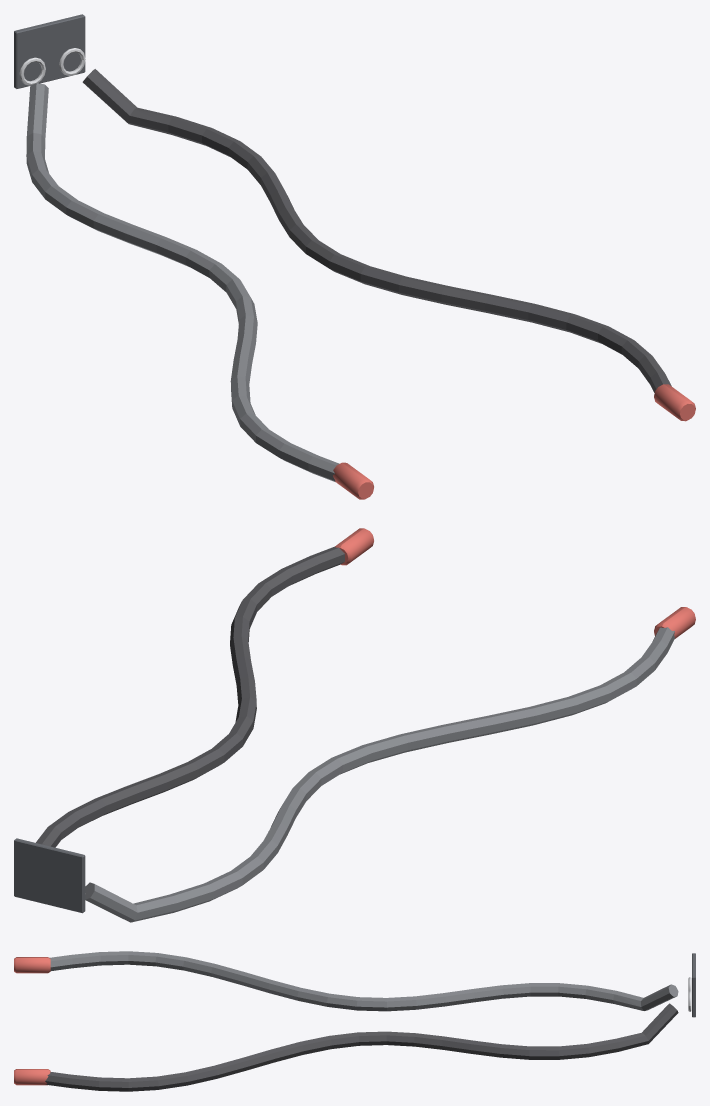
Rendered from battle_ropes.glb.
The picture shows the model from 3 angles, top to bottom: view 1: azimuth 30°, elevation 25°; view 2: azimuth 150°, elevation 25°; view 3: azimuth 270°, elevation 25°; orthographic projection. The views are drawn at different scales.
Visible parts, largest first — view 1: battle-ropes; view 2: battle-ropes; view 3: battle-ropes.
Part boxes in pixels (left/top/right/bottom): battle-ropes: left=14, top=14, right=695, bottom=499; battle-ropes: left=14, top=528, right=695, bottom=922; battle-ropes: left=14, top=951, right=695, bottom=1091.
Bounding box in the file's own units: 1.54 × 0.344 × 3.35.
